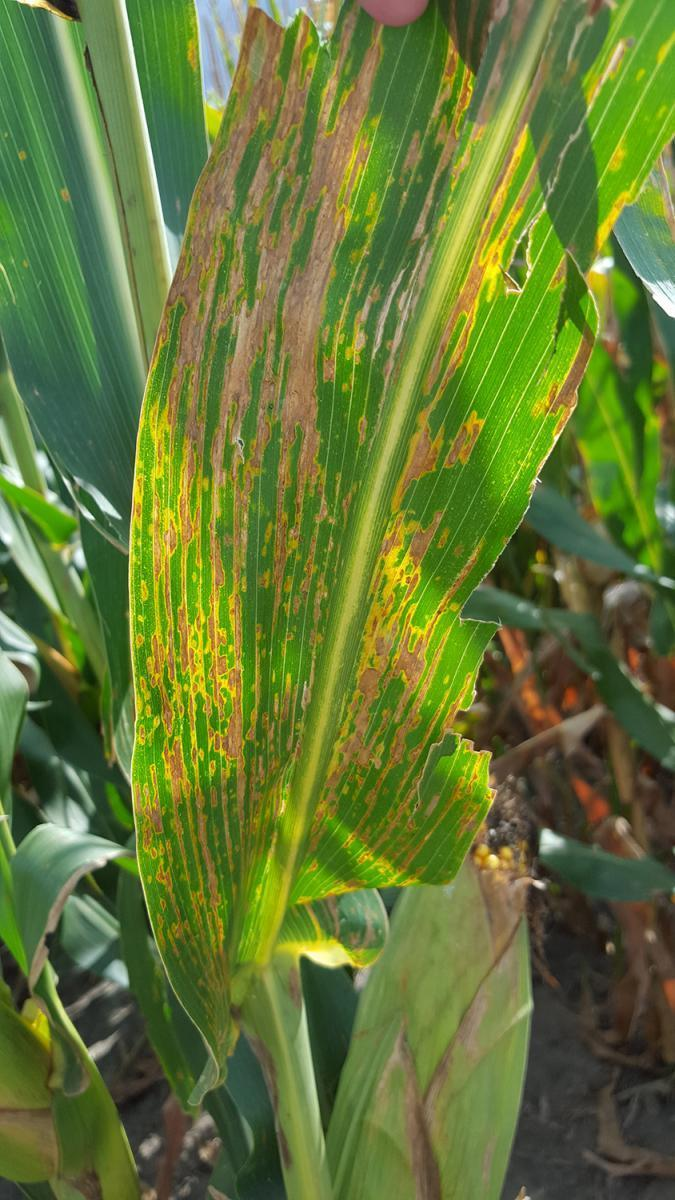Corn_Blight: (142, 7, 403, 906), (438, 19, 639, 569), (428, 603, 598, 885), (137, 933, 273, 1064)
